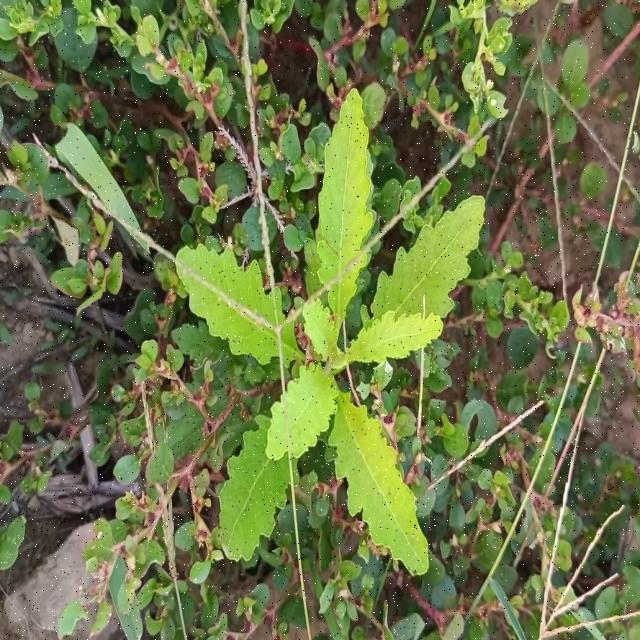weed: (219, 89, 485, 575), (176, 245, 301, 367)
